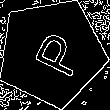P_NW: (21, 25, 83, 80)
